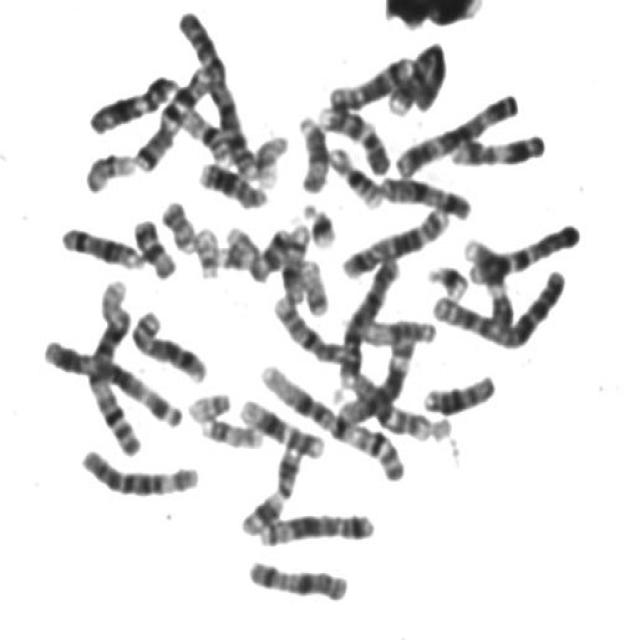A1: (252, 354, 410, 483), (86, 271, 146, 460)
A2: (173, 1, 262, 181), (428, 259, 572, 352)
A3: (36, 329, 187, 428), (390, 82, 525, 180)
B4: (334, 250, 404, 389), (400, 40, 457, 114)
B5: (338, 198, 454, 281), (255, 503, 380, 549)
C10: (345, 365, 436, 443), (268, 286, 351, 366)
C11: (235, 438, 308, 538), (446, 124, 550, 168)
C12: (85, 65, 182, 137), (234, 389, 329, 461)
C6: (332, 325, 418, 430), (76, 440, 204, 499)
C7: (130, 58, 216, 174), (462, 212, 585, 285)
C8: (126, 301, 212, 383), (322, 48, 420, 114)
C9: (312, 97, 393, 177), (458, 228, 517, 331)
D13: (194, 152, 272, 211), (418, 365, 501, 416)
D14: (55, 217, 148, 270), (278, 216, 314, 304)
D15: (291, 105, 334, 194), (356, 309, 441, 346)
E16: (323, 137, 387, 209), (174, 98, 236, 164)
E17: (197, 410, 266, 450), (216, 225, 262, 274)
E18: (128, 209, 181, 281), (245, 231, 293, 282)
F19: (80, 144, 140, 195), (250, 124, 293, 188)
F20: (157, 191, 200, 254), (296, 252, 334, 318)
G21: (298, 194, 341, 249), (423, 255, 473, 301)
G22: (189, 217, 224, 280), (183, 382, 235, 423)
X: (242, 550, 354, 604), (374, 167, 476, 221)
